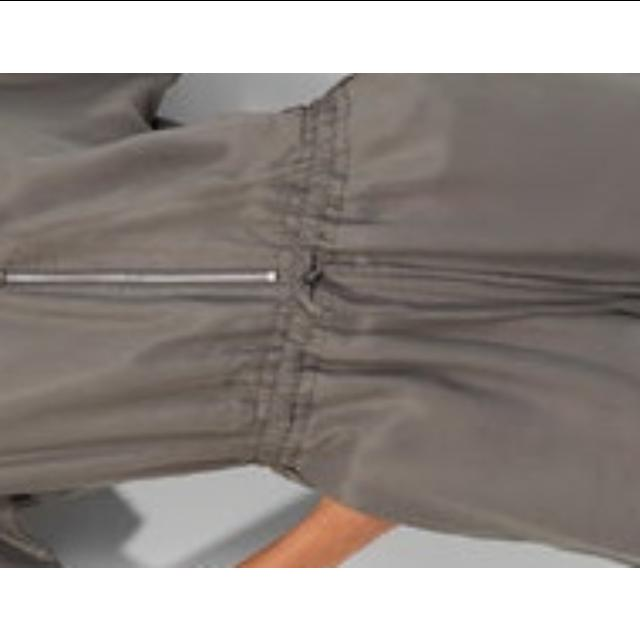silk: (0, 73, 640, 561)
